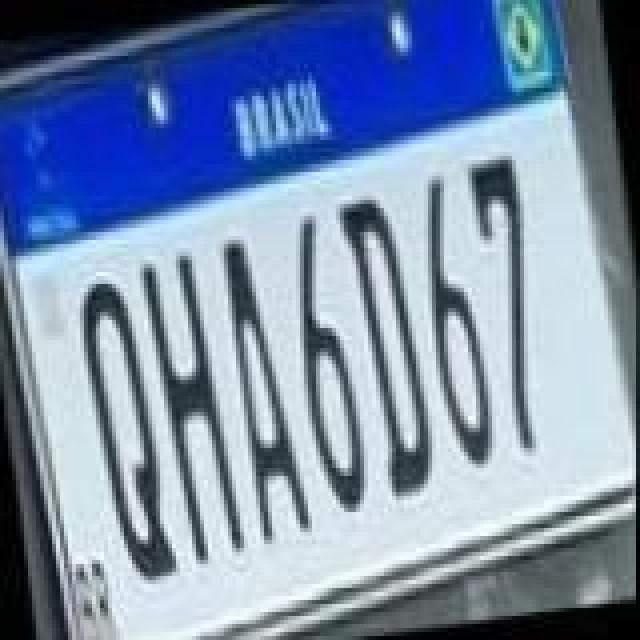6: (278, 204, 374, 516), (408, 170, 500, 482)
7: (464, 146, 556, 454)
A: (220, 222, 316, 546)
D: (338, 190, 442, 502)
H: (136, 244, 248, 568)
Q: (74, 268, 182, 588)
